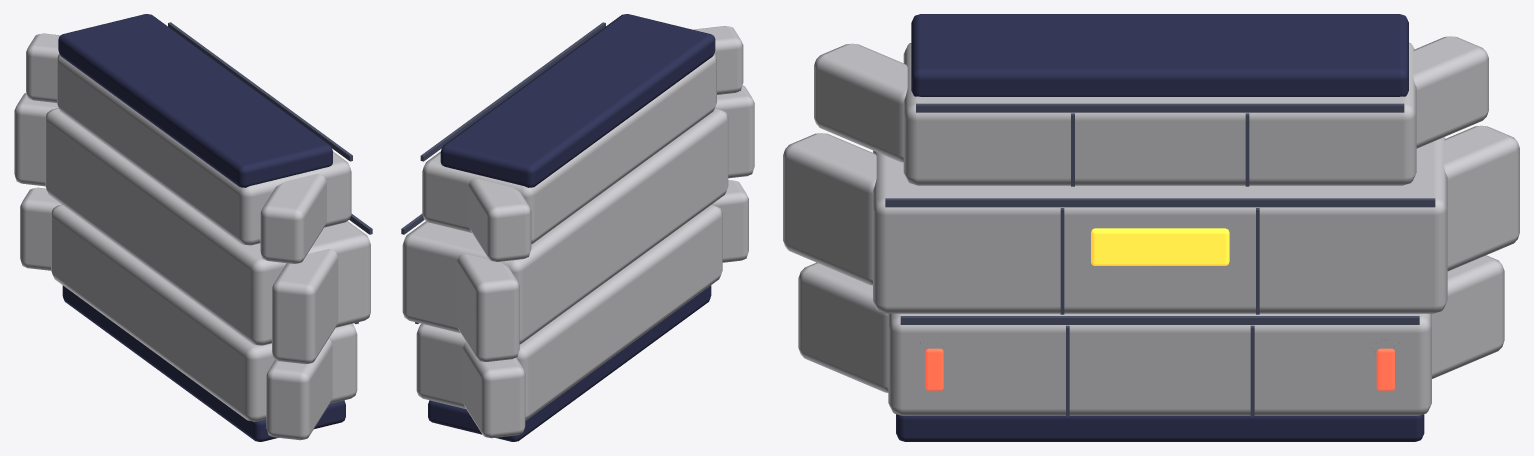
The model's file is BOW_nose_cap.glb.
The picture shows the model from 3 angles, left to right: view 1: azimuth 30°, elevation 25°; view 2: azimuth 150°, elevation 25°; view 3: azimuth 270°, elevation 25°; orthographic projection. The views are drawn at different scales.
Parts seen in each view (by area): view 1: BOW_nose_cap.001; view 2: BOW_nose_cap.001; view 3: BOW_nose_cap.001.
Part boxes in pixels (box(x1,y1,x2,y2)): BOW_nose_cap.001: box(14, 14, 372, 441); BOW_nose_cap.001: box(401, 14, 754, 441); BOW_nose_cap.001: box(783, 14, 1519, 441).
Size of the model in its own units: 1.36 by 2.64 by 4.78.
